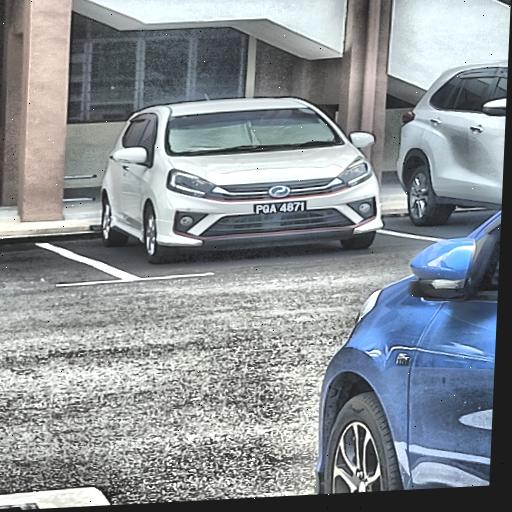license_plate: (253, 198, 311, 216)
